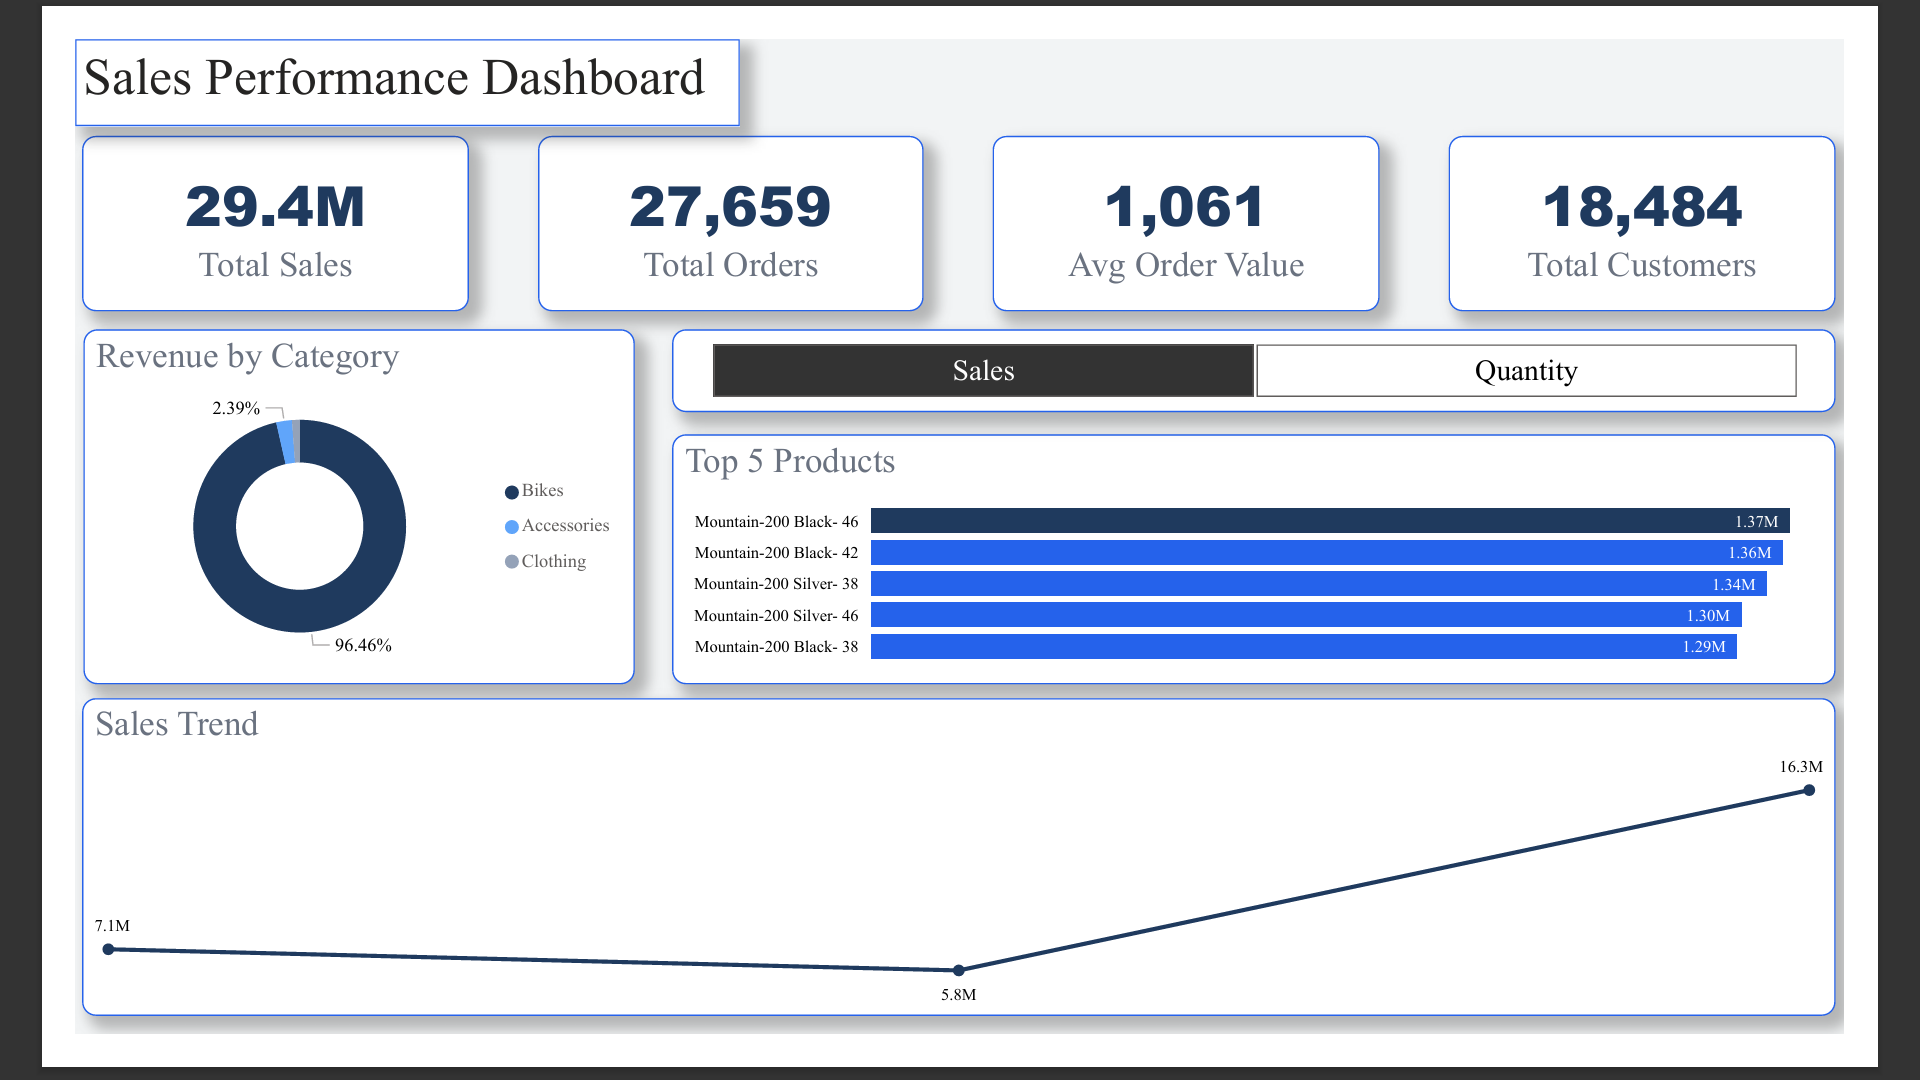

This screenshot's page, from the dashboard's own definition file:
{"tool":"powerbi","page":{"name":"Sales Dashboard","canvas":[1280,720],"ordinal":0},"visuals":[{"type":"card","fields":{"Values":["gold fact_sales.total_sales"]},"box":[4.8,70.2,279.9,126.7],"z":0},{"type":"card","fields":{"Values":["gold fact_sales.total_orders"]},"box":[334.6,70.2,279.9,126.7],"z":1000},{"type":"card","fields":{"Values":["gold fact_sales.avg_order_value"]},"box":[664.3,70.2,279.9,126.7],"z":2000},{"type":"card","fields":{"Values":["gold fact_sales.total_customers"]},"box":[994.1,70.5,279.9,126.7],"z":3000},{"type":"textbox","box":[0,0,481.4,62.7],"z":4000},{"type":"donutChart","title":"Revenue by Category","fields":{"Category":["gold report_products.category"],"Y":["gold fact_sales.total_sales"]},"box":[6,209.9,399.3,257],"z":5000},{"type":"clusteredBarChart","title":"Top 5 Products ","fields":{"Y":["gold fact_sales.total_sales"],"Category":["gold report_products.product_name"]},"box":[431.9,285.9,842.1,181],"z":6000},{"type":"lineChart","title":"Sales Trend","fields":{"Y":["gold fact_sales.total_sales"],"Category":["Date.Year"]},"box":[4.8,476.5,1269.2,230.4],"z":7000},{"type":"slicer","fields":{"Values":["Metric.Metric"]},"box":[431.9,209.9,842.1,60.3],"z":8000}]}

Visuals, with their boxes in screenshot pixels (x1, y1, x2, y2), scaled from the page's 1280x720 canvas onto the 1920x1080 screenshot:
card - gold fact_sales.total_sales: locate(7, 105, 427, 295)
card - gold fact_sales.total_orders: locate(502, 105, 922, 295)
card - gold fact_sales.avg_order_value: locate(996, 105, 1416, 295)
card - gold fact_sales.total_customers: locate(1491, 106, 1911, 296)
textbox: locate(0, 0, 722, 94)
"Revenue by Category" donutChart: locate(9, 315, 608, 700)
"Top 5 Products " clusteredBarChart: locate(648, 429, 1911, 700)
"Sales Trend" lineChart: locate(7, 715, 1911, 1060)
slicer - Metric.Metric: locate(648, 315, 1911, 405)
